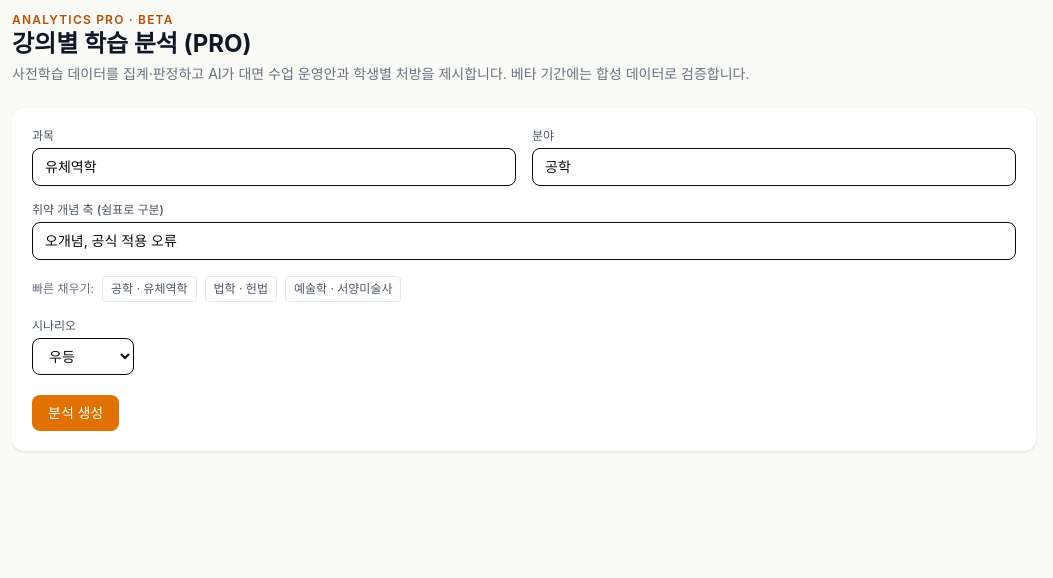
Test case: AnalyticsProPage › shows gated panel (not error toast) on 403
Click the button "분석 생성".
click(76, 413)  # box [32,395,119,431]
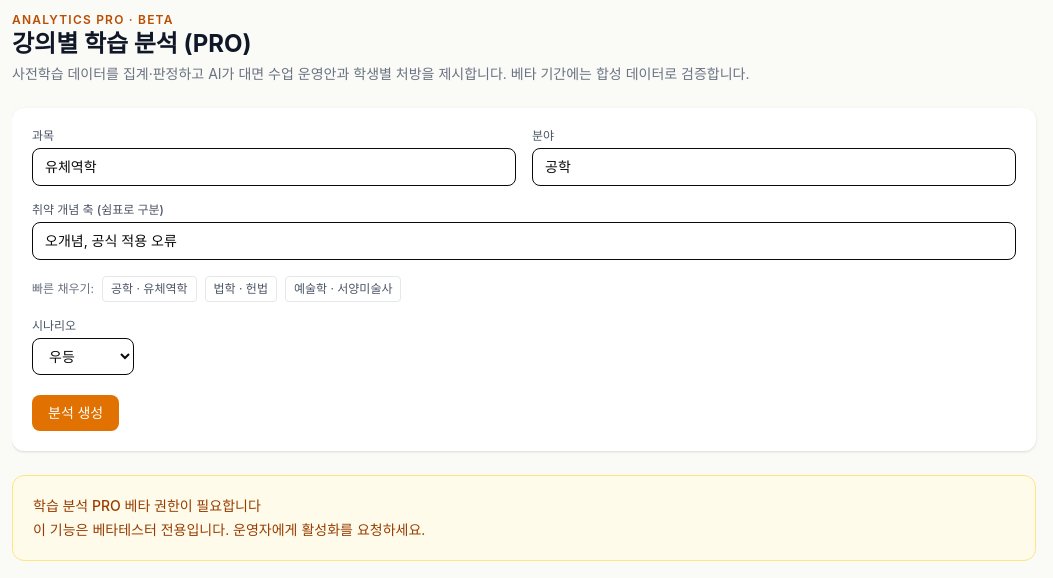
Check: the text "학습 분석 PRO 베타 권한이 필요합니다" is shown, box [33,497,261,514]
